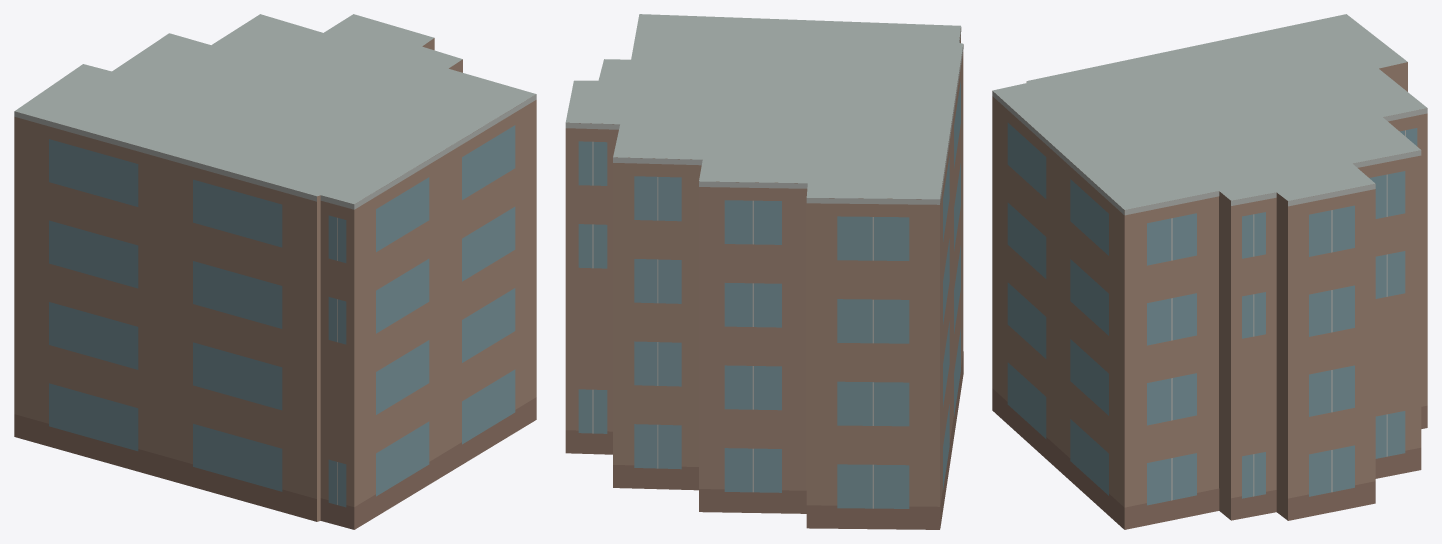
The model's file is survey-upis-32495233.glb.
3 renders of one model, left to right at view 1: azimuth 30°, elevation 25°; view 2: azimuth 150°, elevation 25°; view 3: azimuth 270°, elevation 25°, orthographic. The views are drawn at different scales.
Parts seen in each view (by area): view 1: survey-upis-32495233.tmp; view 2: survey-upis-32495233.tmp; view 3: survey-upis-32495233.tmp.
Part boxes in pixels (x1,y1,x2,y2): survey-upis-32495233.tmp: (14,14,536,529); survey-upis-32495233.tmp: (565,14,963,529); survey-upis-32495233.tmp: (992,14,1427,529).
Size of the model in its own units: 19.22 by 14.61 by 18.04.
